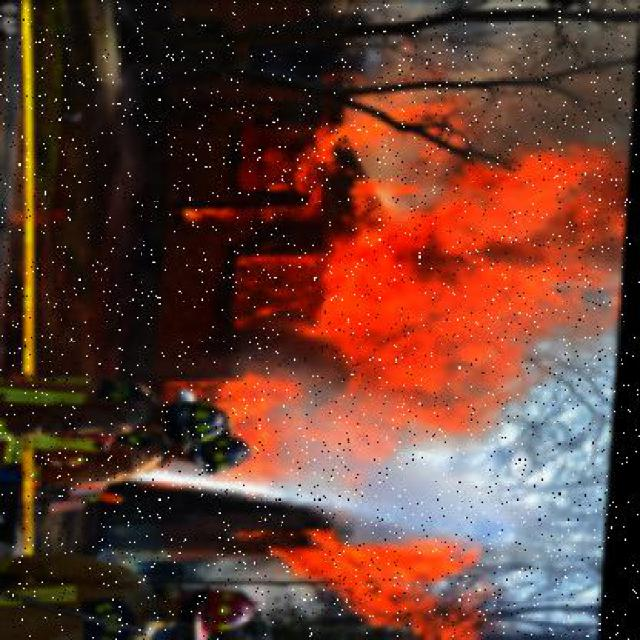fire: (259, 146, 632, 467)
